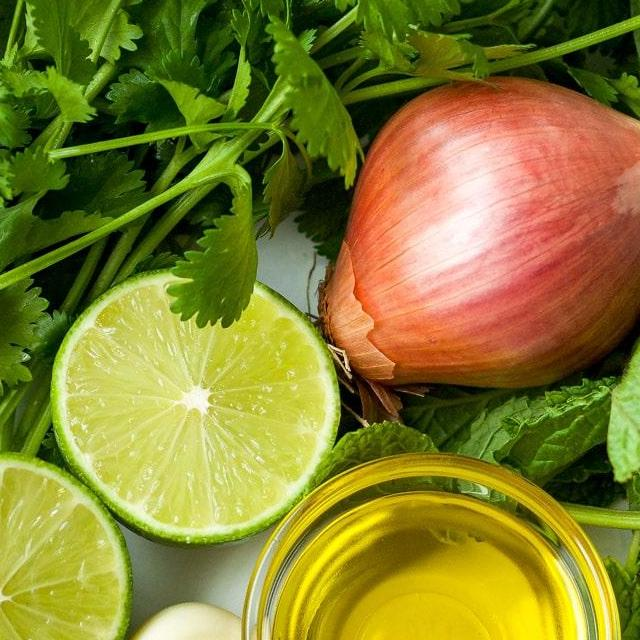cilantro: (0, 0, 537, 226)
onion: (323, 47, 640, 382)
